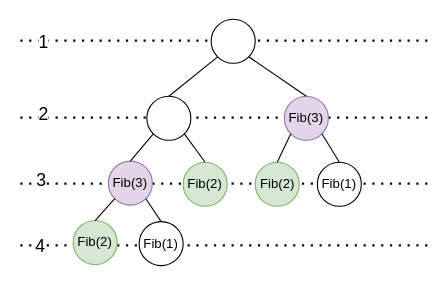
This 448x285 diagram has some shape labels left out. The shapes that lost their labels are listed below. From the top down, each one's centre as x and y in pixels, then its label:
At point 232,40: "Fib(5)".
At point 168,117: "Fib(4)".
